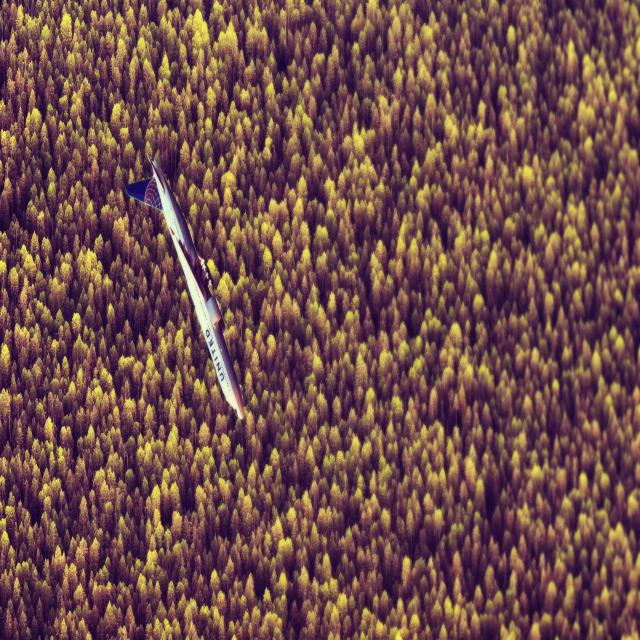airplane: (124, 150, 244, 420)
